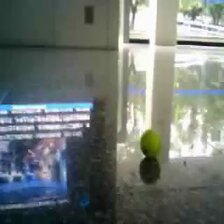tennis: (141, 130, 160, 155)
